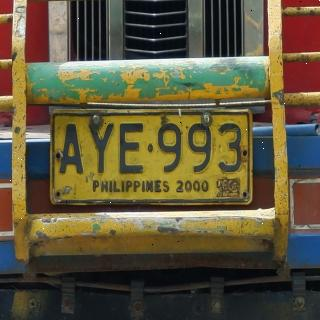license: (51, 110, 254, 205)
